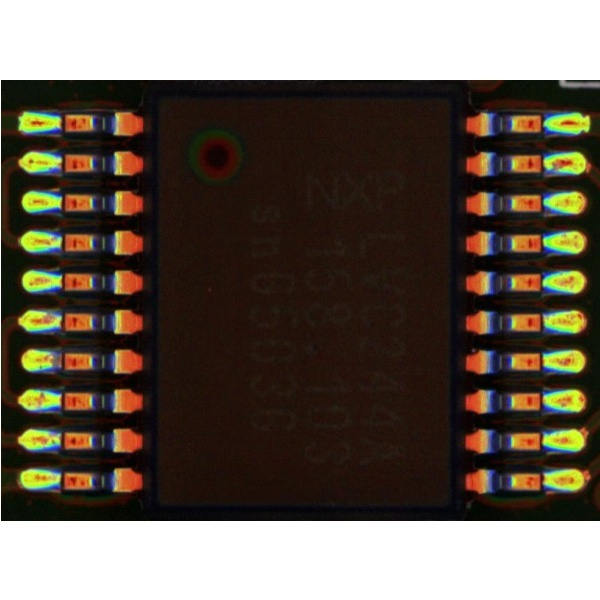Bad_podu: (45, 355, 73, 368)
